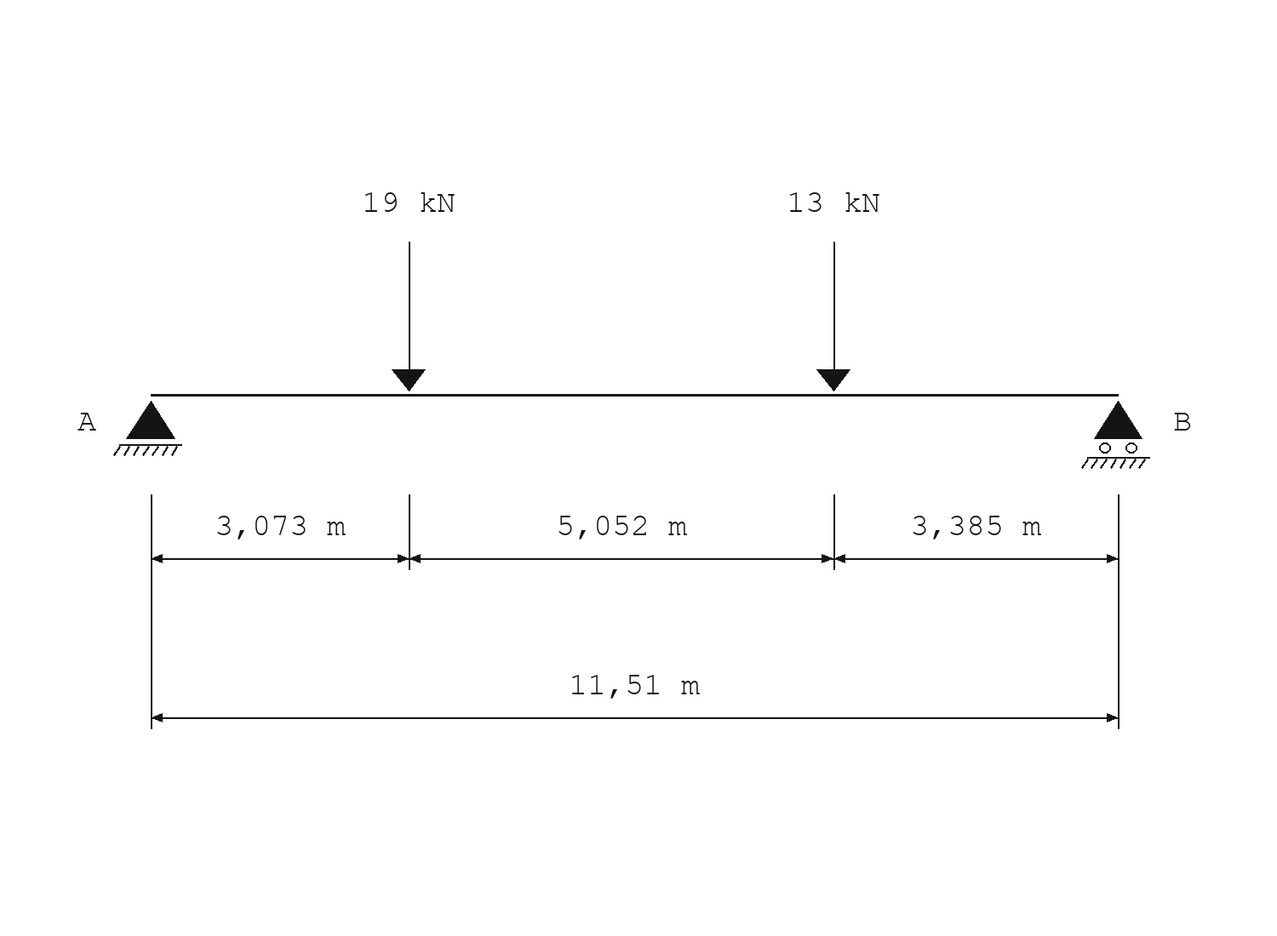pin_support: (113, 401, 182, 456)
point_load: (392, 242, 426, 391), (816, 242, 850, 391)
roller_support: (1081, 401, 1150, 469)
